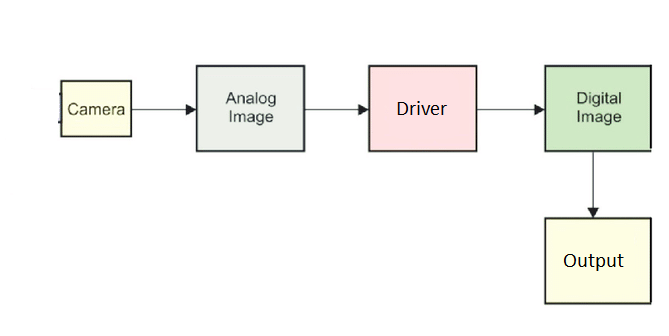arrow: (131, 103, 197, 117), (586, 152, 599, 220), (305, 104, 370, 117), (478, 104, 547, 116)
process: (193, 62, 309, 154), (366, 62, 480, 154), (541, 215, 654, 307), (542, 62, 653, 154), (58, 76, 134, 141)
text: (222, 90, 277, 126), (573, 90, 623, 126), (564, 254, 625, 272), (67, 101, 126, 119), (394, 99, 447, 119)
